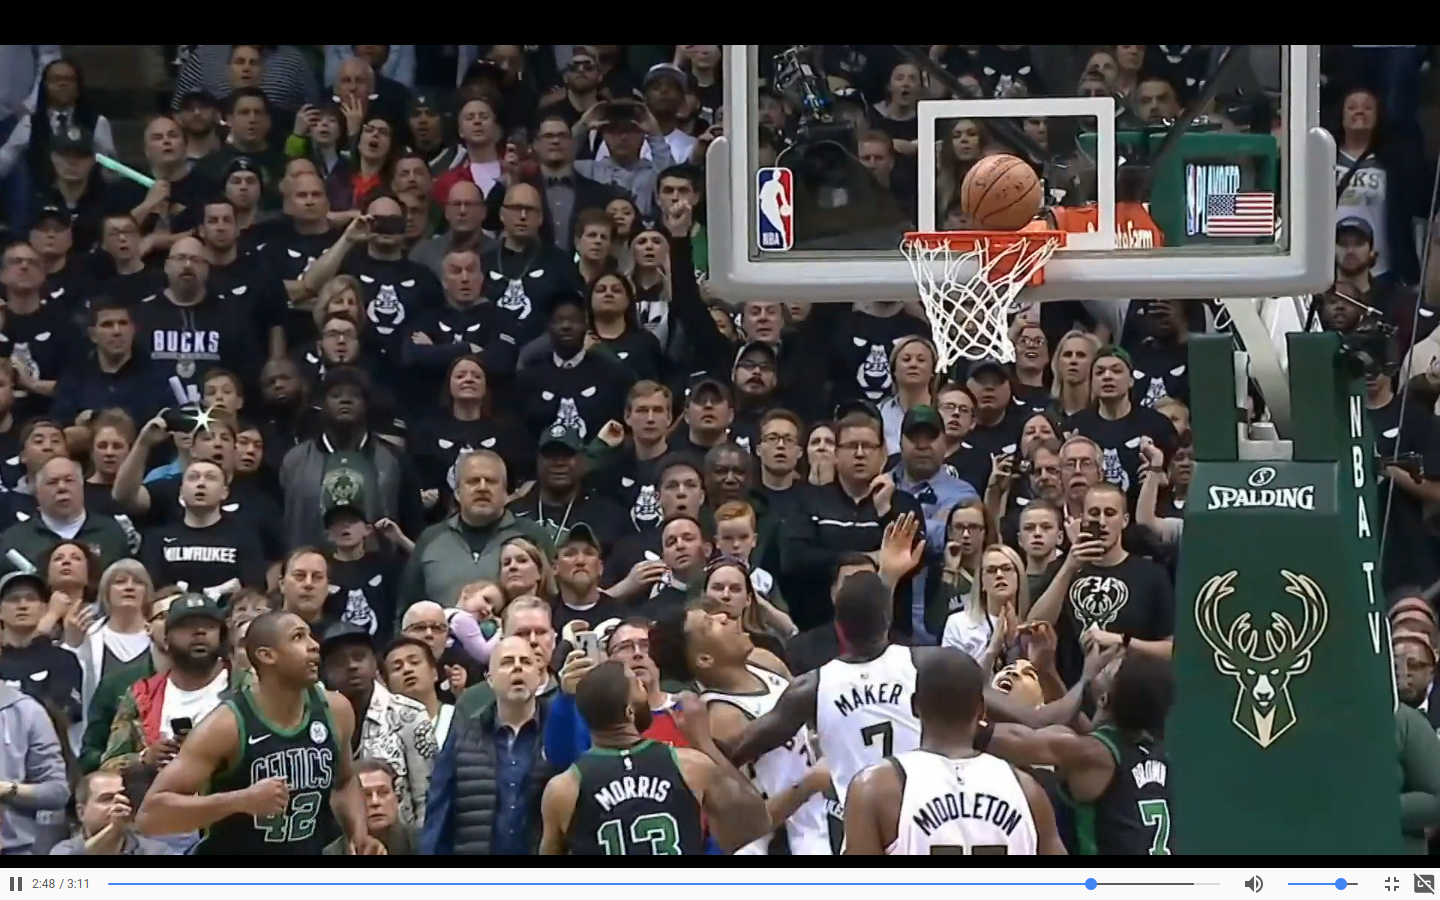basketball: (956, 149, 1042, 239)
basketball player: (128, 606, 372, 851), (836, 645, 1070, 852), (756, 565, 938, 771), (547, 663, 718, 859), (1061, 643, 1176, 862)
